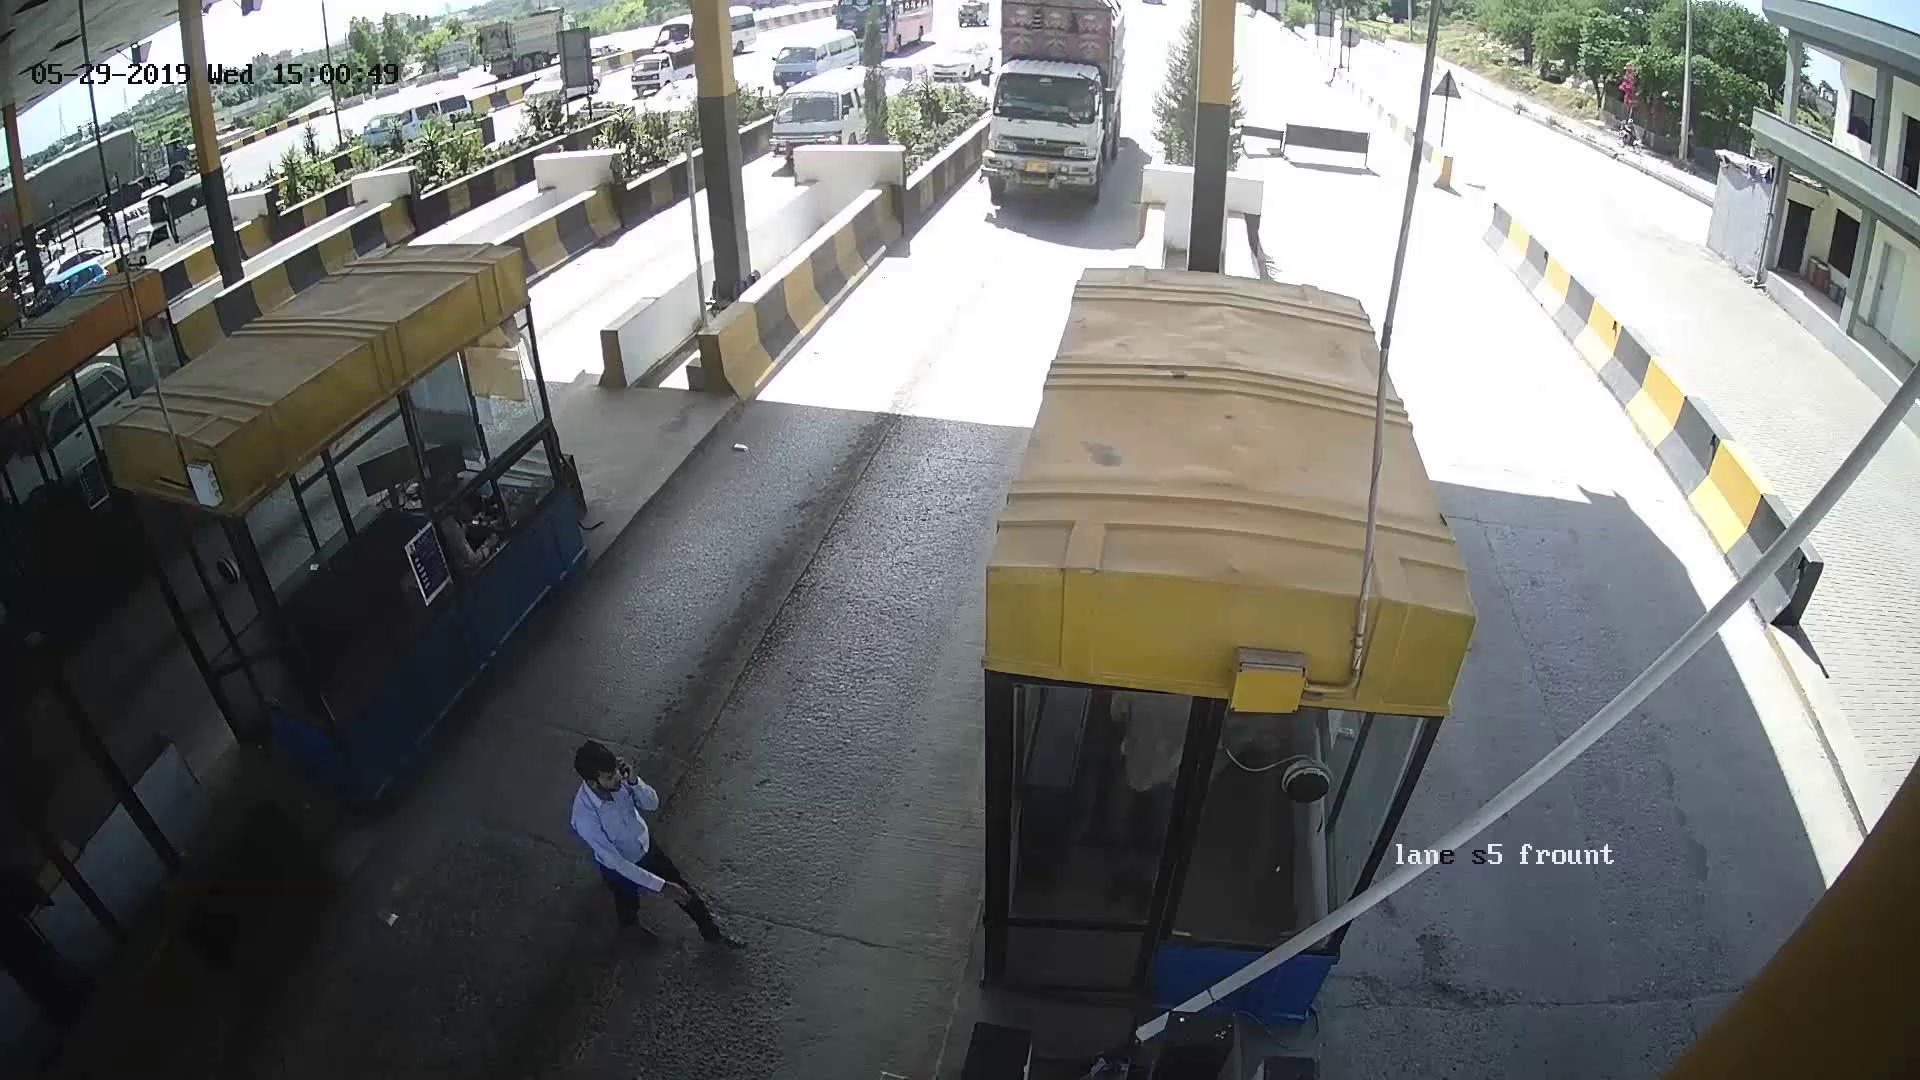truck: (975, 22, 1131, 219)
